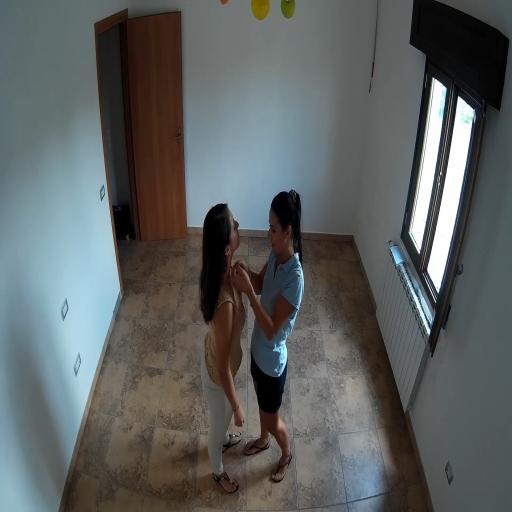nao-violencia: (184, 182, 311, 504)
